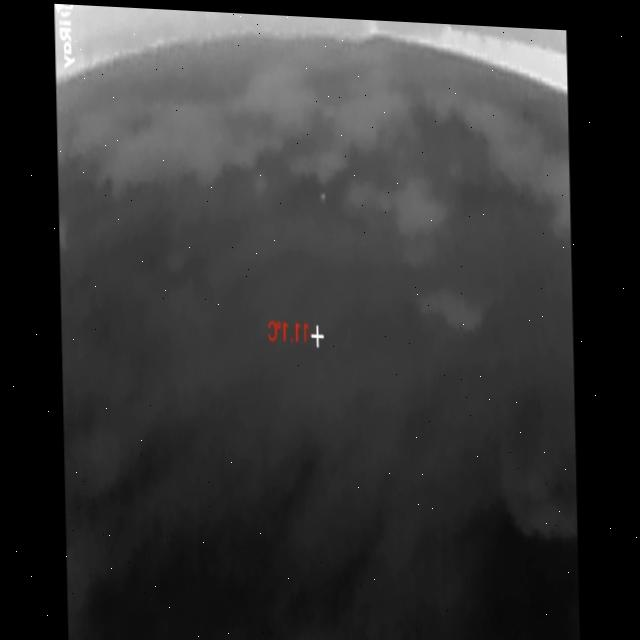drone: (317, 184, 325, 202)
